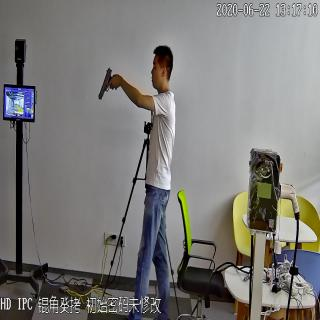gun: (98, 66, 119, 100)
